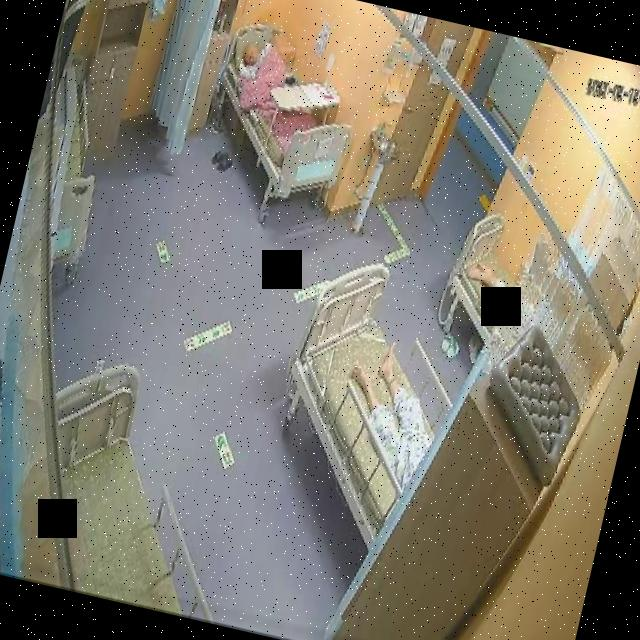bed: (13, 346, 265, 624), (258, 251, 470, 552), (198, 18, 368, 208), (437, 208, 529, 346)
lie: (330, 332, 454, 493), (224, 29, 324, 130)
patient: (331, 333, 454, 493), (232, 31, 278, 88)
